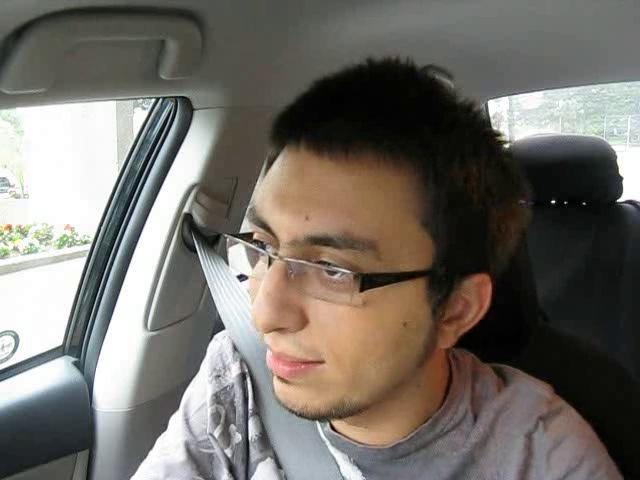no_yawn: (251, 337, 338, 389)
open_eyeL: (233, 224, 286, 271)
open_eyeR: (297, 255, 365, 299)
